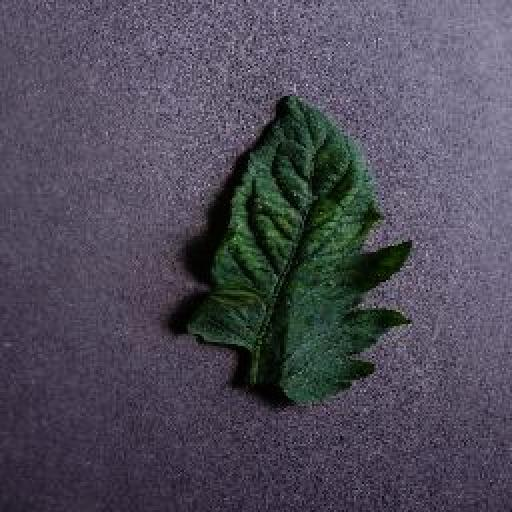disease_tomato: (174, 90, 412, 402)
